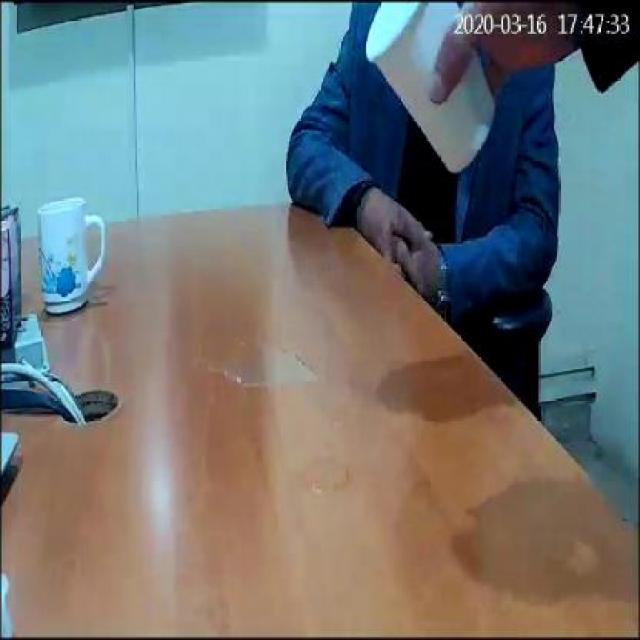spill: (201, 346, 327, 388)
